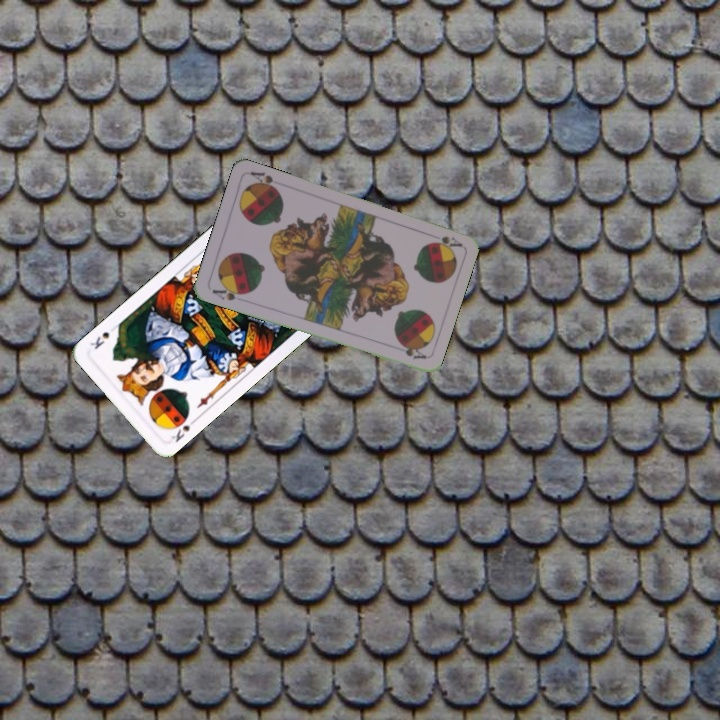SA: (208, 282, 249, 303), (428, 232, 464, 250)
SK: (167, 414, 199, 445)
